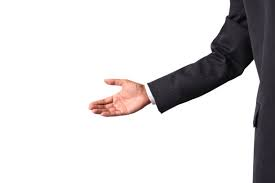pointing_gesture: (88, 78, 148, 122)
